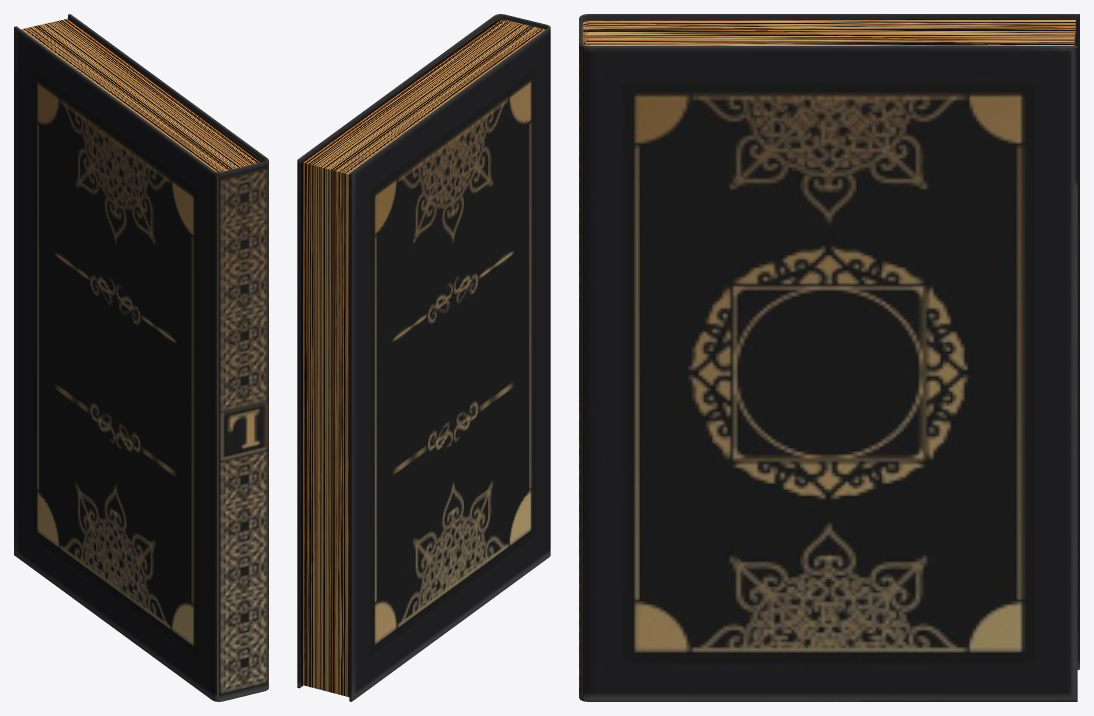
File: Book_02.fbx
3 views of the same model, side by side, from view 1: azimuth 30°, elevation 25°; view 2: azimuth 150°, elevation 25°; view 3: azimuth 270°, elevation 25° (orthographic). The views are drawn at different scales.
Parts seen in each view (by area): view 1: Book_02; view 2: Book_02; view 3: Book_02.
Part boxes in pixels (x1,y1,x2,y2): Book_02: [14, 14, 268, 701]; Book_02: [297, 14, 550, 701]; Book_02: [579, 14, 1079, 701].
Bounding box in the file's own units: 2.29 × 20.85 × 14.46.
